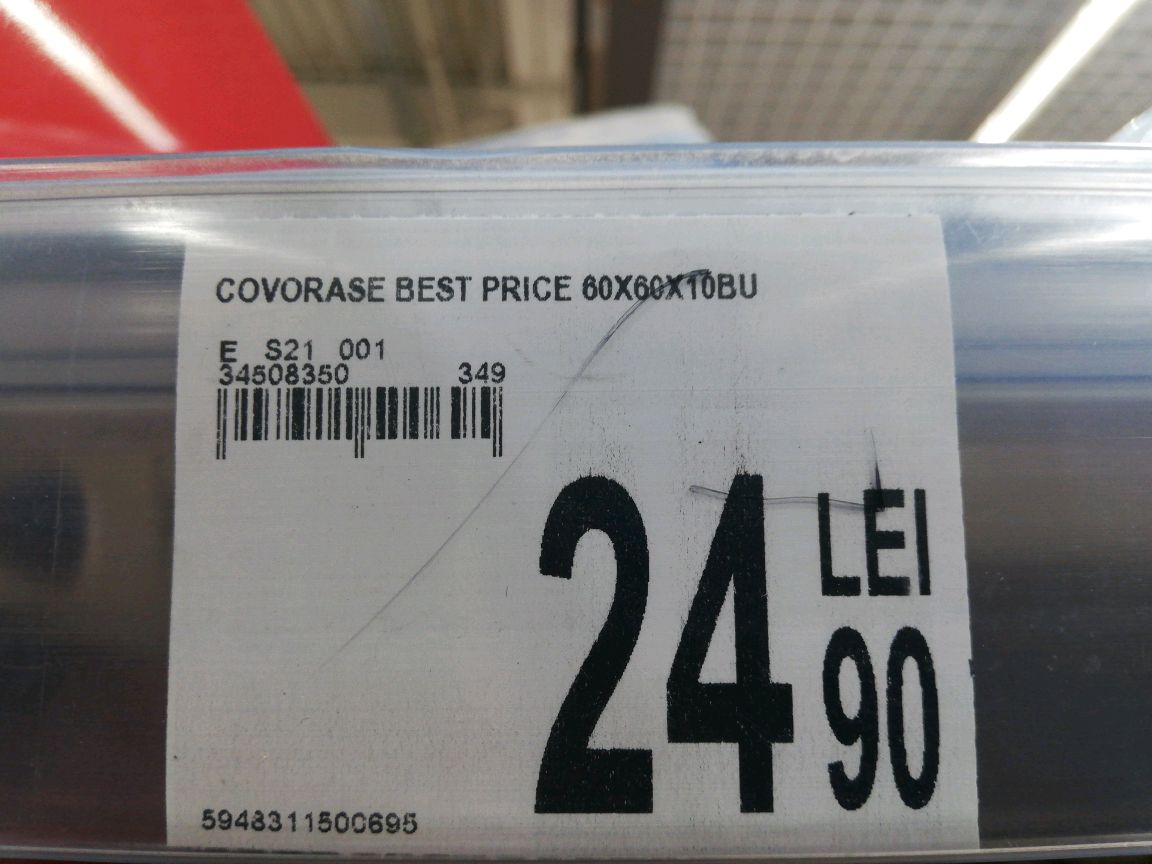price_bani: (808, 624, 951, 823)
price_lei: (521, 460, 798, 824)
price_tag: (166, 211, 996, 864)
product_id: (189, 804, 432, 841)
product_name: (202, 260, 768, 307)
